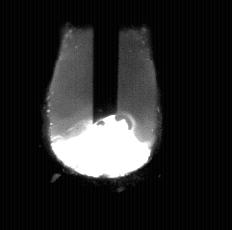arame: (93, 0, 118, 124)
poca: (48, 0, 160, 230)
